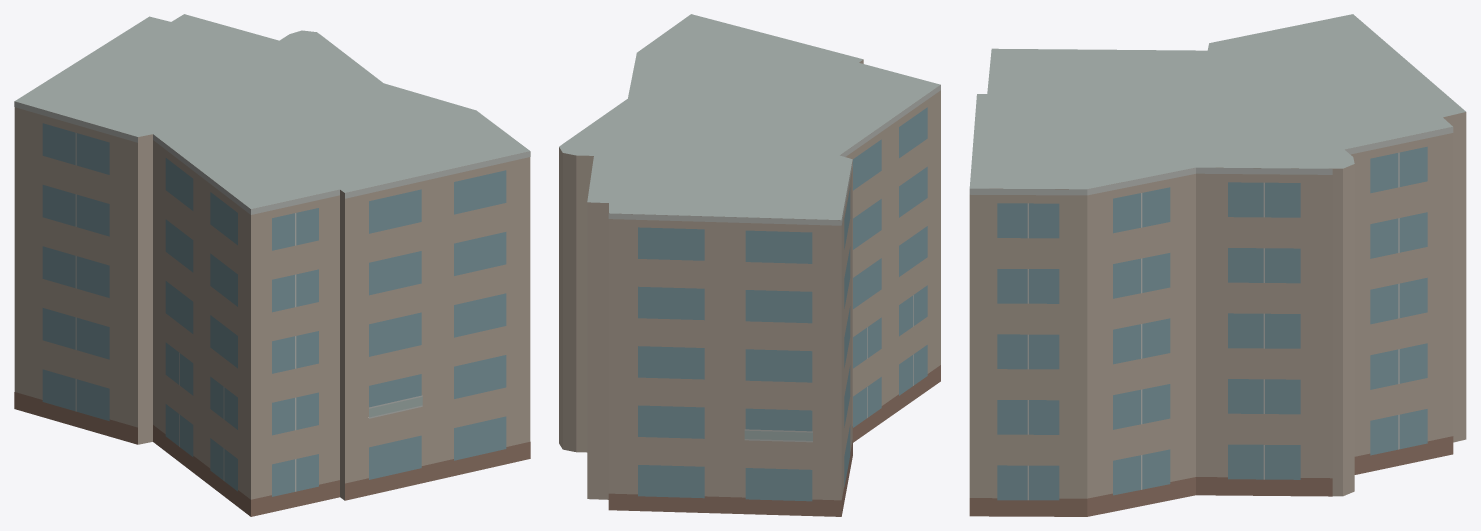
Rendered from survey-upis-32946564.glb.
The picture shows the model from 3 angles, left to right: view 1: azimuth 30°, elevation 25°; view 2: azimuth 150°, elevation 25°; view 3: azimuth 270°, elevation 25°; orthographic projection. The views are drawn at different scales.
Visible parts, largest first — view 1: survey-upis-32946564.tmp; view 2: survey-upis-32946564.tmp; view 3: survey-upis-32946564.tmp.
Part boxes in pixels (x1,y1,x2,y2): survey-upis-32946564.tmp: (14,14,530,516); survey-upis-32946564.tmp: (559,14,940,516); survey-upis-32946564.tmp: (969,14,1466,516).
Size of the model in its own units: 14.8 by 12.9 by 17.73.
